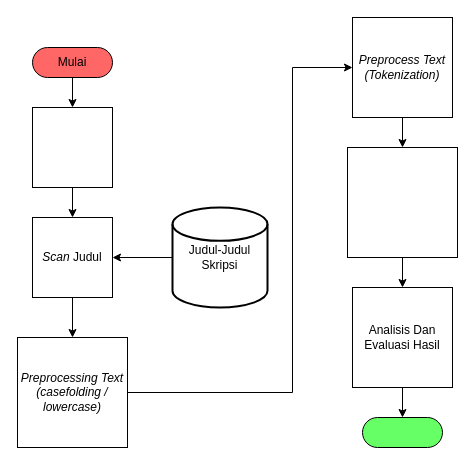
Some shapes in this 475 by 465 pixel diagram are drawn without their labels. Each missing label, with the centre of its shape:
Calculate TF-IDF Score Multiple By Fuzzy Matching Score: pixel 402 202
Input Judul: pixel 72 147
Selesai: pixel 402 432
